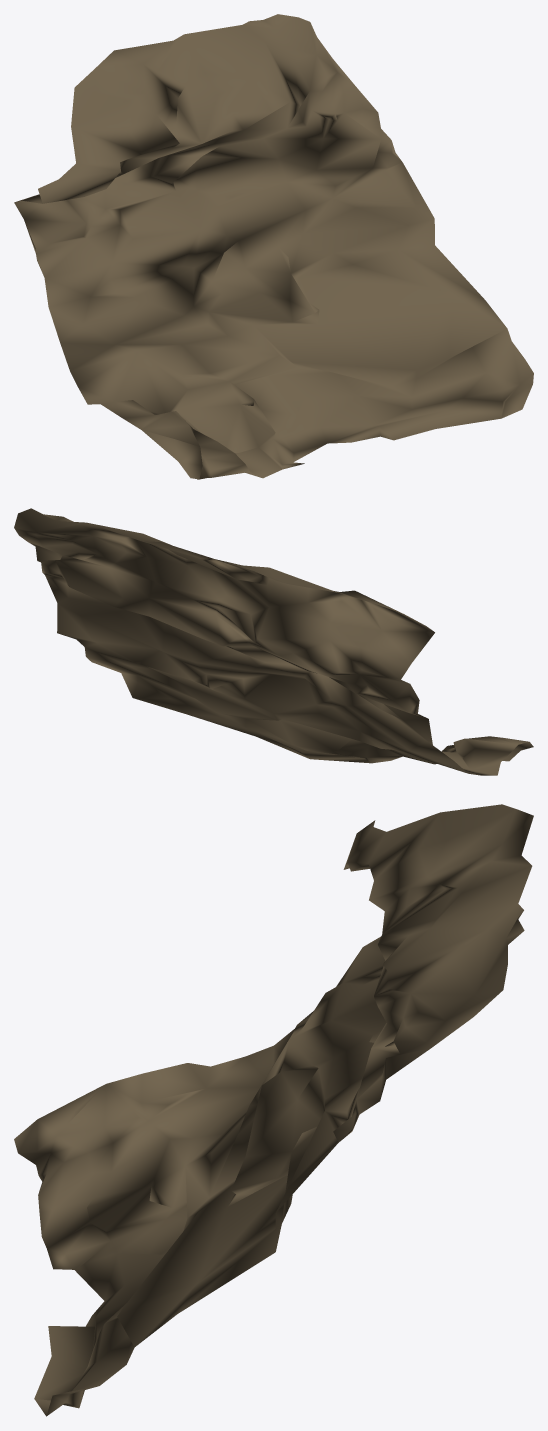
Rendered from rock_face_01-lod2.glb.
3 views of the same model, one above another, from view 1: azimuth 30°, elevation 25°; view 2: azimuth 150°, elevation 25°; view 3: azimuth 270°, elevation 25° (orthographic). The views are drawn at different scales.
Parts seen in each view (by area): view 1: rock_face_01; view 2: rock_face_01; view 3: rock_face_01.
Boxes of the visible parts, x1,y1,x2,y2 form: rock_face_01: [14, 14, 533, 479]; rock_face_01: [14, 508, 533, 775]; rock_face_01: [14, 804, 533, 1416].
Size of the model in its own units: 4.94 by 3.56 by 3.82.
